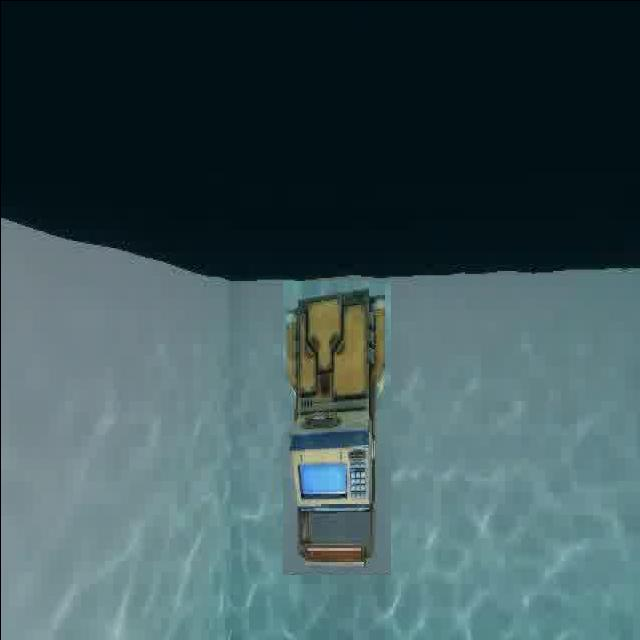Control Panel: (282, 280, 390, 574)
